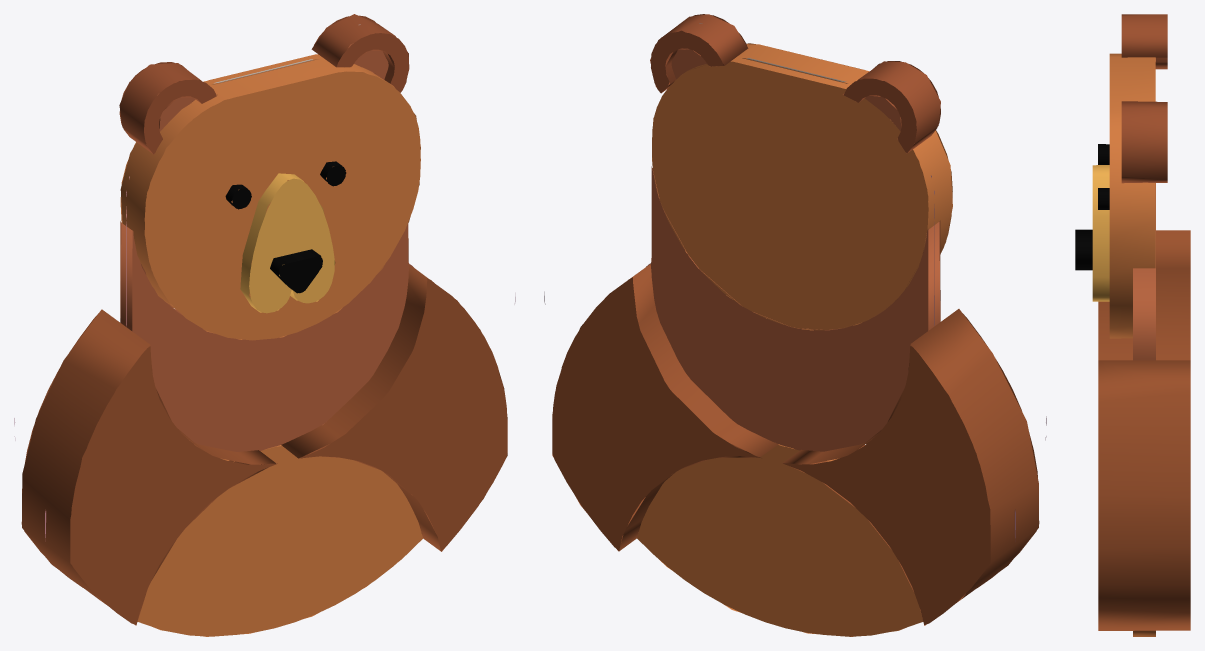
File: bear.glb
The picture shows the model from 3 angles, left to right: view 1: azimuth 30°, elevation 25°; view 2: azimuth 150°, elevation 25°; view 3: azimuth 270°, elevation 25°; orthographic projection. The views are drawn at different scales.
Visible parts, largest first — view 1: bear; view 2: bear; view 3: bear.
Boxes of the visible parts, x1,y1,x2,y2 form: bear: (14,14,515,636); bear: (544,14,1046,636); bear: (1075,14,1190,636).
Bounding box in the file's own units: 3.25 × 3.58 × 0.6787.
